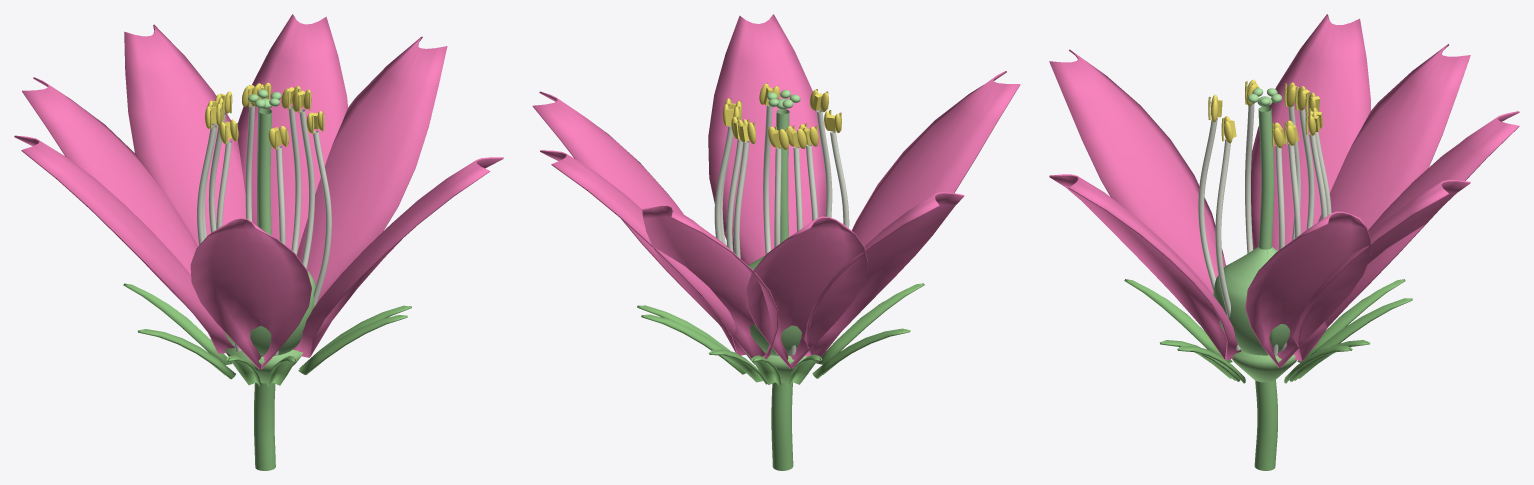
Rendered from flower-anatomy.glb.
The picture shows the model from 3 angles, left to right: view 1: azimuth 30°, elevation 25°; view 2: azimuth 150°, elevation 25°; view 3: azimuth 270°, elevation 25°; orthographic projection.
Visible parts, largest first — view 1: Full_Petal_0, Full_Petal_1, Full_Petal_3, Sec_Petal_0, Sec_Petal_2, Full_Petal_2, Full_Petal_4, Full_Pedicel, Full_Style, Sec_Sepal_2, Full_Stamen_5_filament, Full_Ovary (+12 smaller); view 2: Full_Petal_4, Sec_Petal_2, Full_Petal_3, Full_Petal_1, Full_Petal_2, Full_Petal_0, Sec_Petal_0, Full_Pedicel, Sec_Sepal_3, Full_Style, Full_Stamen_5_filament, Full_Sepal_2 (+12 smaller); view 3: Full_Petal_3, Full_Petal_2, Sec_Petal_2, Full_Petal_0, Full_Petal_4, Full_Petal_1, Sec_Petal_0, Full_Ovary, Full_Style, Full_Pedicel, Full_Stamen_5_filament, Full_Receptacle (+11 smaller).
Boxes of the visible parts, x1,y1,x2,y2 form: Full_Petal_0: (297,36,447,302); Full_Petal_1: (124,24,245,246); Full_Petal_3: (190,217,311,369); Sec_Petal_0: (237,14,347,252); Sec_Petal_2: (22,77,197,302); Full_Petal_2: (14,135,234,353); Full_Petal_4: (293,157,503,357); Full_Pedicel: (254,383,275,470); Full_Style: (257,109,271,235); Sec_Sepal_2: (123,283,232,364); Full_Stamen_5_filament: (313,130,331,306); Full_Ovary: (224,270,315,356); Full_Petal_4: (708,14,826,264); Sec_Petal_2: (746,216,868,368); Full_Petal_3: (852,71,1020,246); Full_Petal_1: (642,204,778,359); Full_Petal_2: (804,192,964,363); Full_Petal_0: (532,91,723,328); Sec_Petal_0: (540,150,746,355); Full_Pedicel: (771,382,793,470); Sec_Sepal_3: (816,283,924,364); Full_Style: (776,109,789,243); Full_Stamen_5_filament: (763,105,772,254); Full_Sepal_2: (812,328,910,378); Full_Petal_3: (1049,49,1226,294); Full_Petal_2: (1251,14,1370,250); Sec_Petal_2: (1318,44,1470,229); Full_Petal_0: (1245,211,1370,367); Full_Petal_4: (1049,174,1241,360); Full_Petal_1: (1312,111,1519,348); Sec_Petal_0: (1293,180,1470,361); Full_Ovary: (1213,246,1290,355); Full_Style: (1258,106,1274,249); Full_Pedicel: (1254,380,1277,470); Full_Stamen_5_filament: (1215,139,1240,350); Full_Receptacle: (1232,351,1296,382).
Size of the model in its own units: 0.1806 by 0.1507 by 0.1718.
